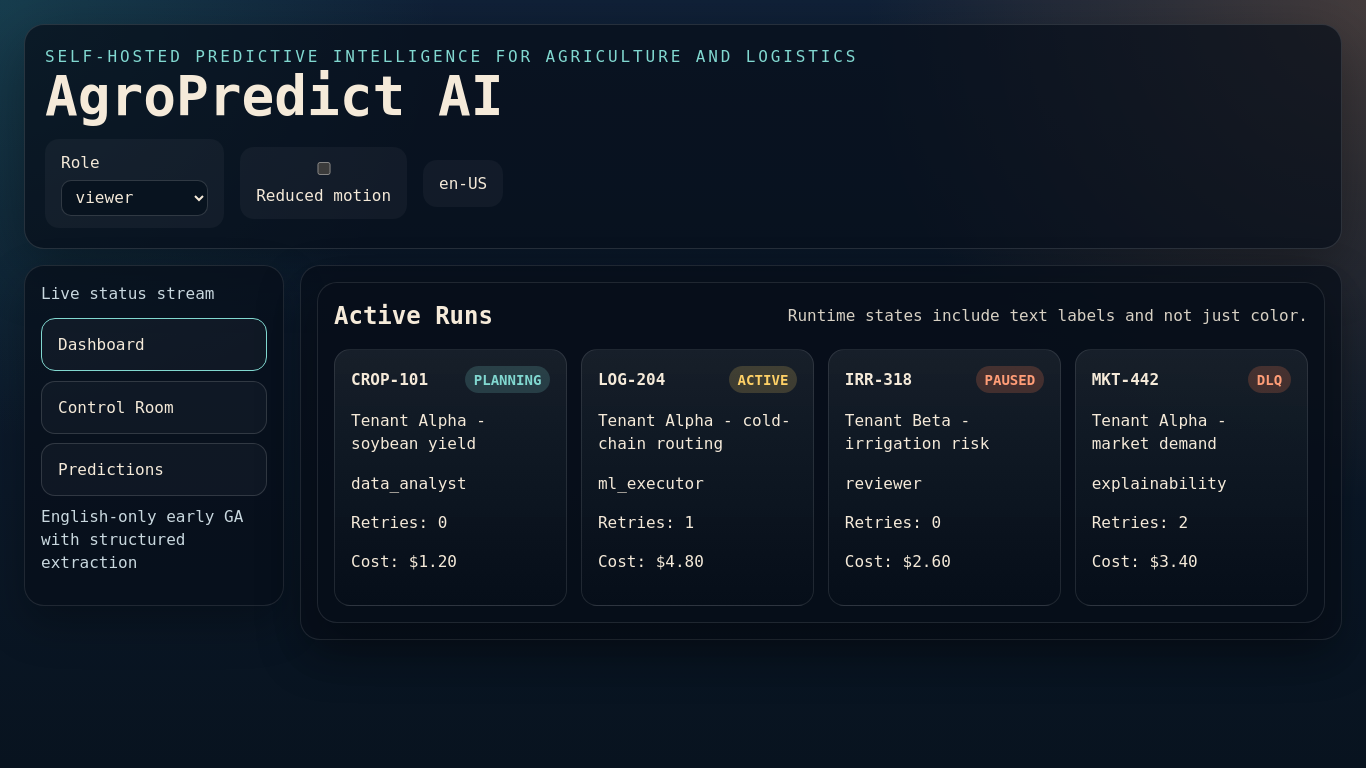
Test case: App › surfaces the explicit sprite upload deferral message
This screenshot has width=1366, height=768.
Click the button "Control Room".
click(154, 407)  # box [41, 381, 267, 434]
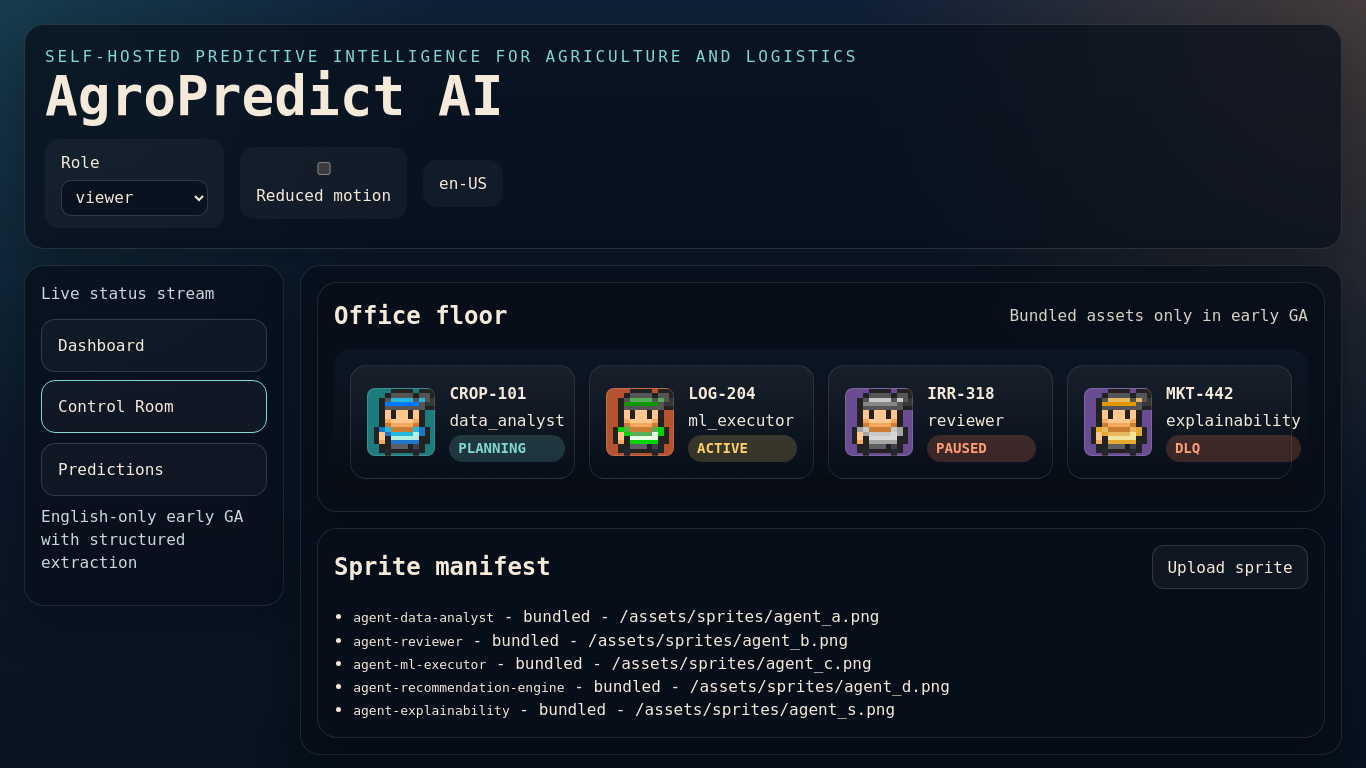
Click the button "Upload sprite".
click(1230, 567)  # box [1152, 545, 1308, 589]
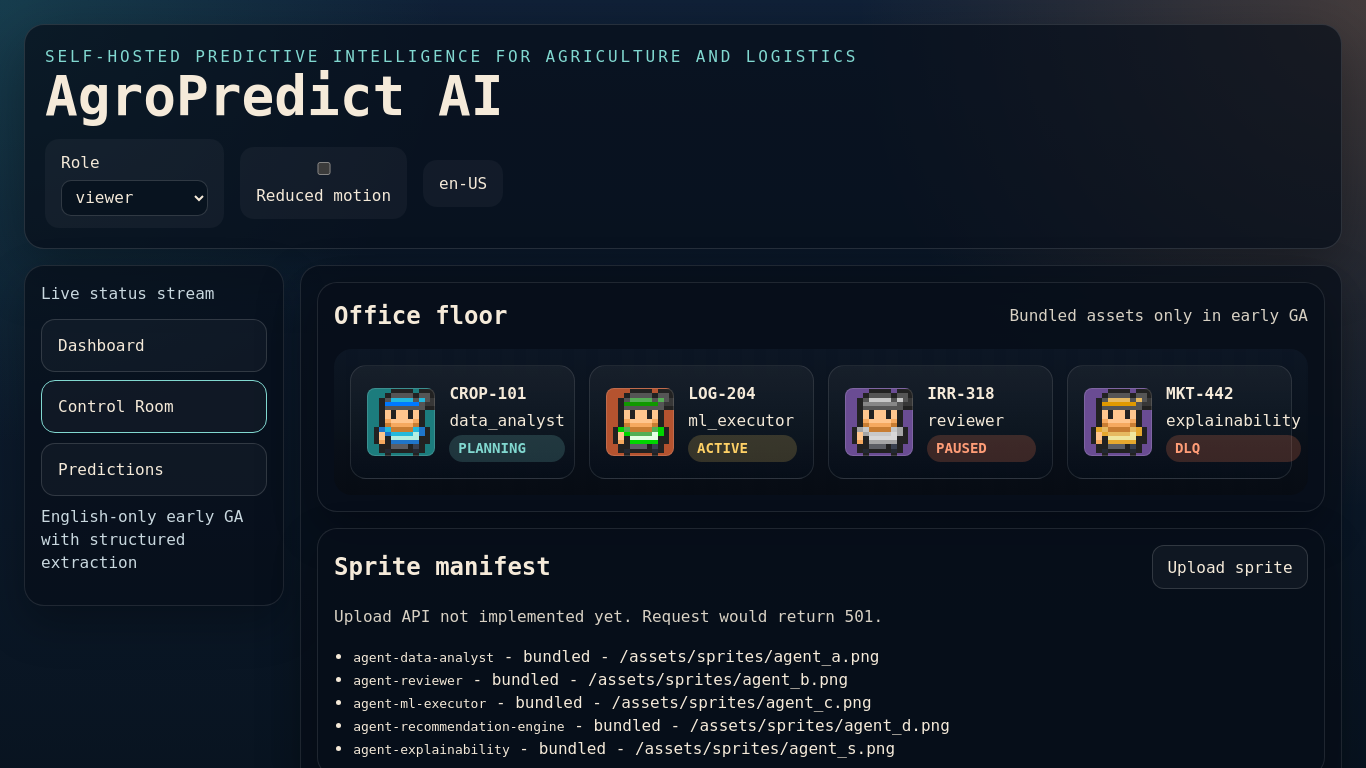
Expected: the text "Upload API not implemented yet. Request would return 501." is shown, [334, 607, 883, 626]
